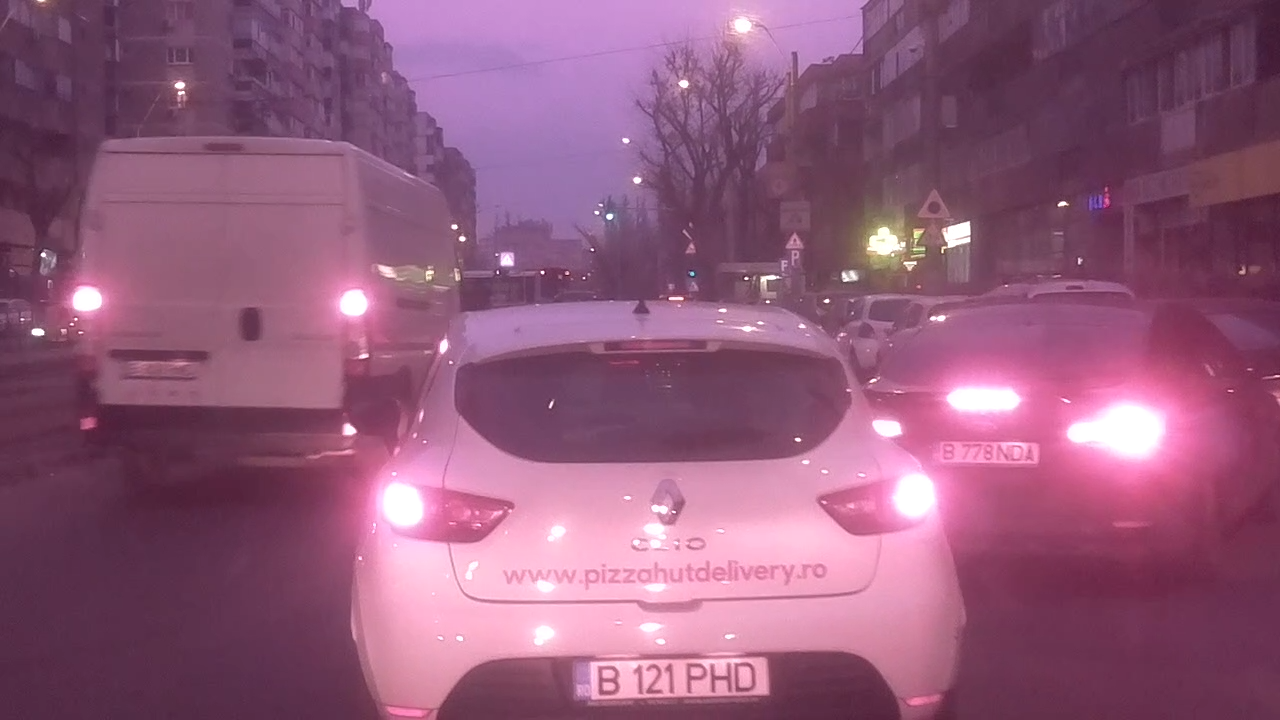license-plate: (567, 652, 774, 709), (928, 437, 1044, 471)
